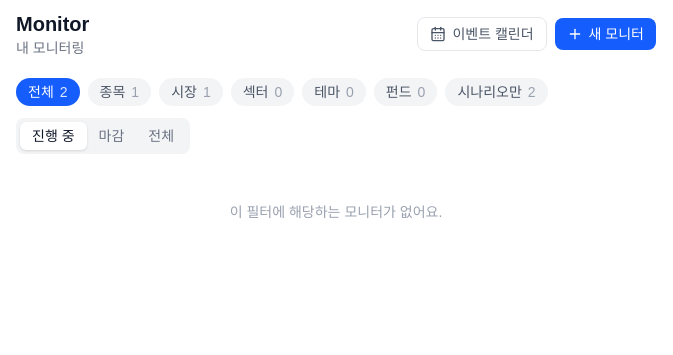
Scenario: MonitorListPage 상태 세그먼트 › scope 필터와 status 필터가 AND로 교차 적용된다
The image size is (673, 355).
Expected: the element with test id "status-segment" is shown, [16,118,190,154]
Click the button with test id "status-seg-closed": [111, 136] box [86,122,136,150]
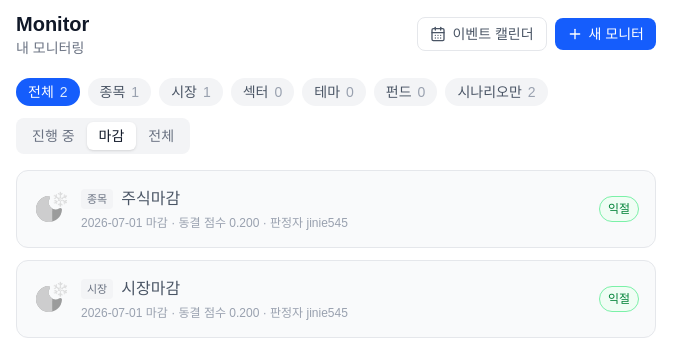
Click the button "시장 1": [191, 92] box [159,78,223,106]
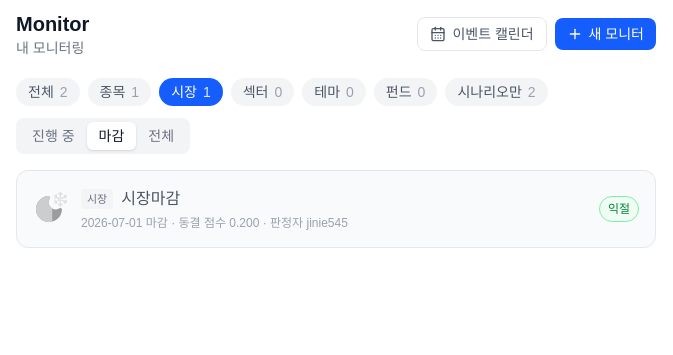
Result: the heading "시장마감" is shown at [121,187,180,211]
Result: the link "주식마감" is gone
